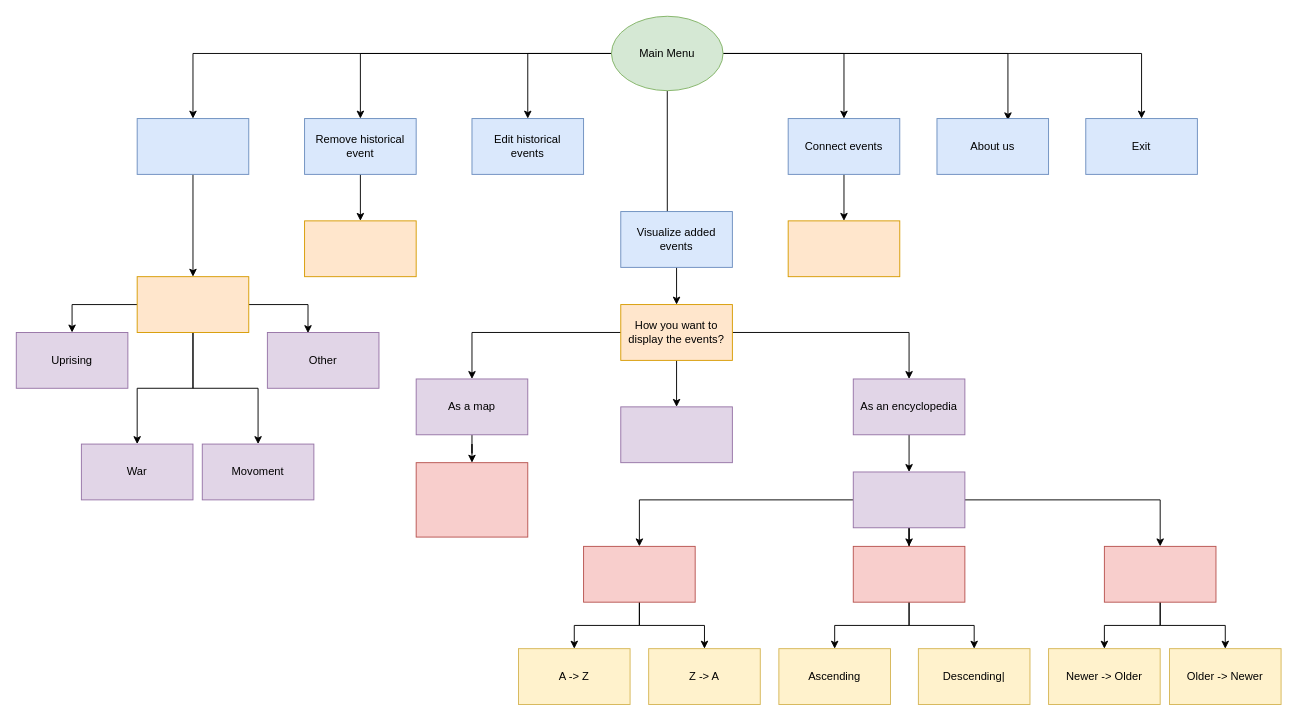
This 1297x721 diagram has some shape labels left out. The shapes that lost their labels are listed below. From the top down, each one's centre as x and y in pixels, then its label:
point (192, 146): Add historical event
point (360, 248): Enter the title of the event you want to remove:
point (843, 248): Chose up to six events to be added to storyline:
point (192, 304): Choose the type of event you want to add!
point (676, 434): As a timeline
point (471, 499): Move the marker on the coordinates the event had been placed and press Enter!
point (908, 499): How do you want to sort the events?
point (639, 573): By title
point (908, 573): By year, month and day
point (1159, 573): By time added
